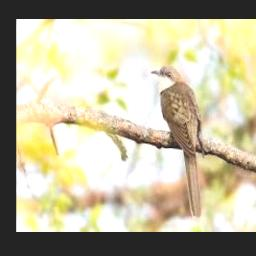Cuckoo: (150, 66, 203, 221)
